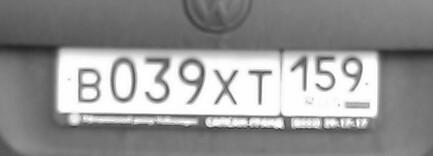license-plateSW: (58, 46, 387, 115)
